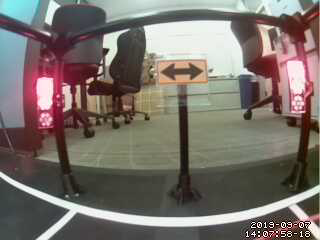Left_Right_sign: (154, 58, 208, 83)
Traffic_light_red: (285, 59, 307, 109), (35, 74, 53, 124)
